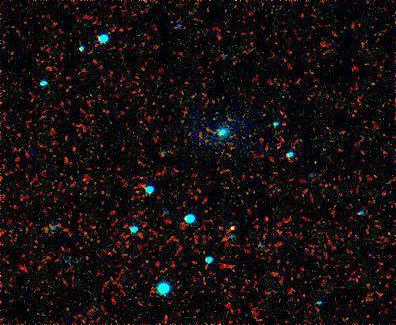star: (216, 214, 246, 244)
